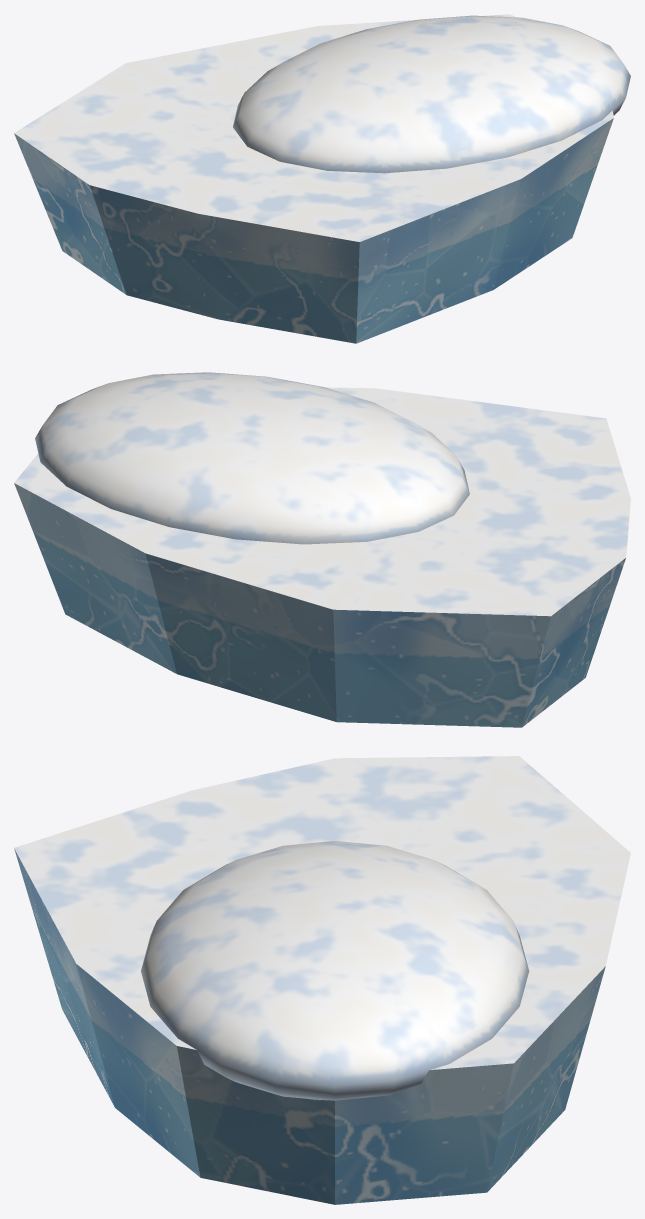
Rendered from ice_floe_a.glb.
3 views of the same model, one above another, from view 1: azimuth 30°, elevation 25°; view 2: azimuth 150°, elevation 25°; view 3: azimuth 270°, elevation 25° (orthographic). The views are drawn at different scales.
Parts seen in each view (by area): view 1: Floe; view 2: Floe; view 3: Floe.
Boxes of the visible parts, bbox=[...] form: Floe: bbox=[14, 14, 630, 343]; Floe: bbox=[14, 372, 630, 727]; Floe: bbox=[14, 756, 630, 1204].
Bounding box in the file's own units: 2.65 × 0.801 × 2.1.
1 material, 1 textured.
